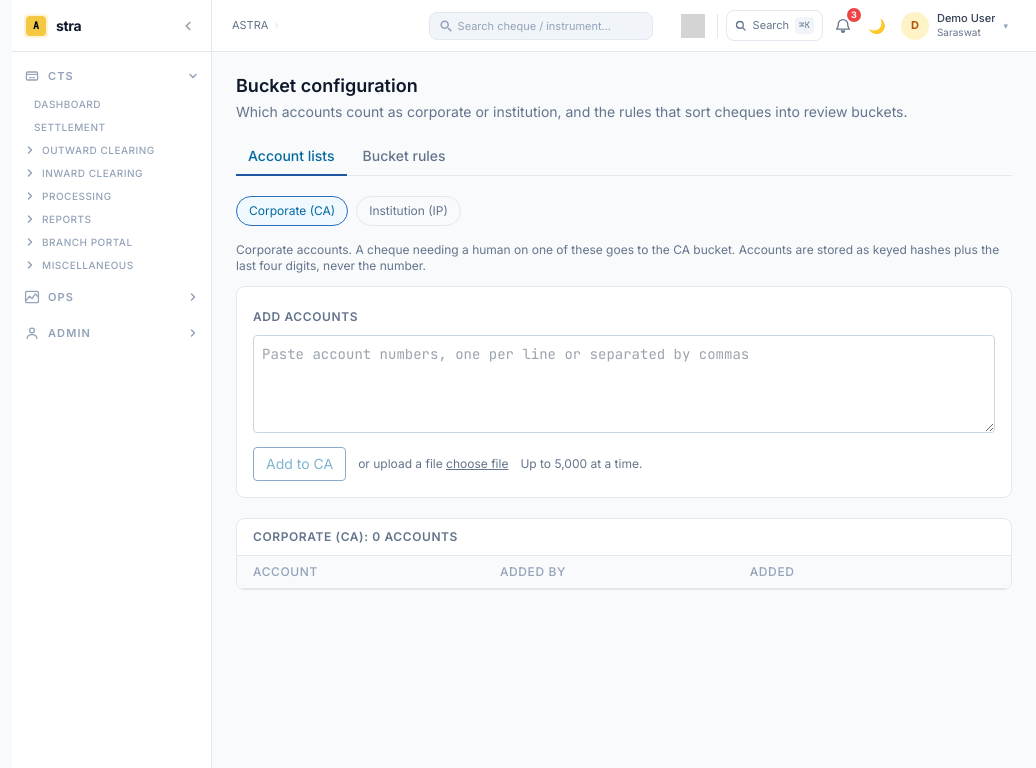
Test: CTSBucketConfig › shows the current bucket rules read-only with a pointer to the maker-checker config page
Click the button "Bucket rules". click: click(404, 157)
box: [351,138,458,176]
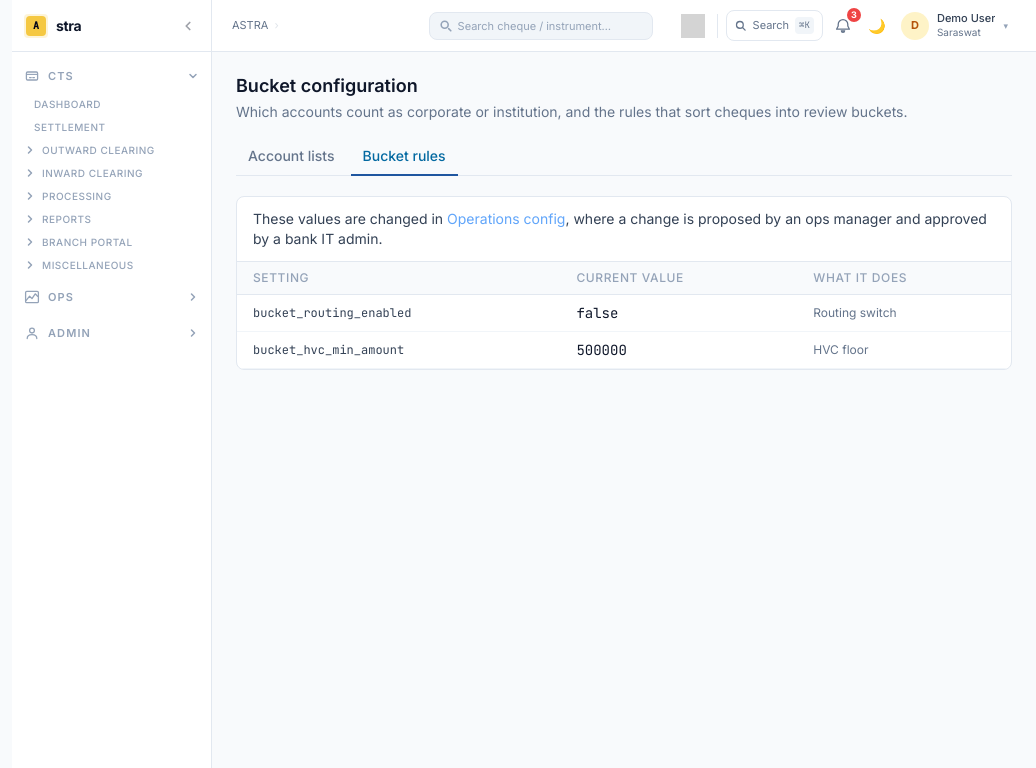
Now the text "bucket_hvc_min_amount" is shown, box [237,332,560,368]
Now the text "500000" is shown, box [560,332,797,368]
